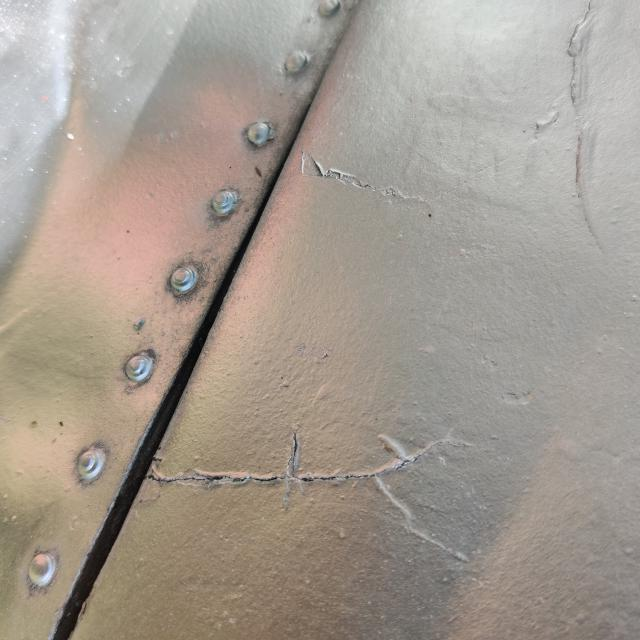Crack: (149, 402, 505, 564)
